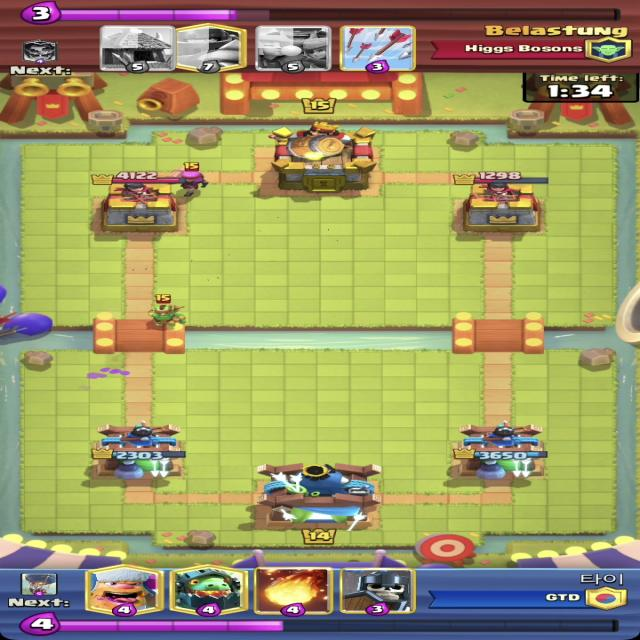Enemy-Firecracker: (165, 162, 208, 197)
Enemy-GoblinBarrel: (285, 135, 345, 160)
Enemy-SpearGoblin: (146, 294, 190, 328)
